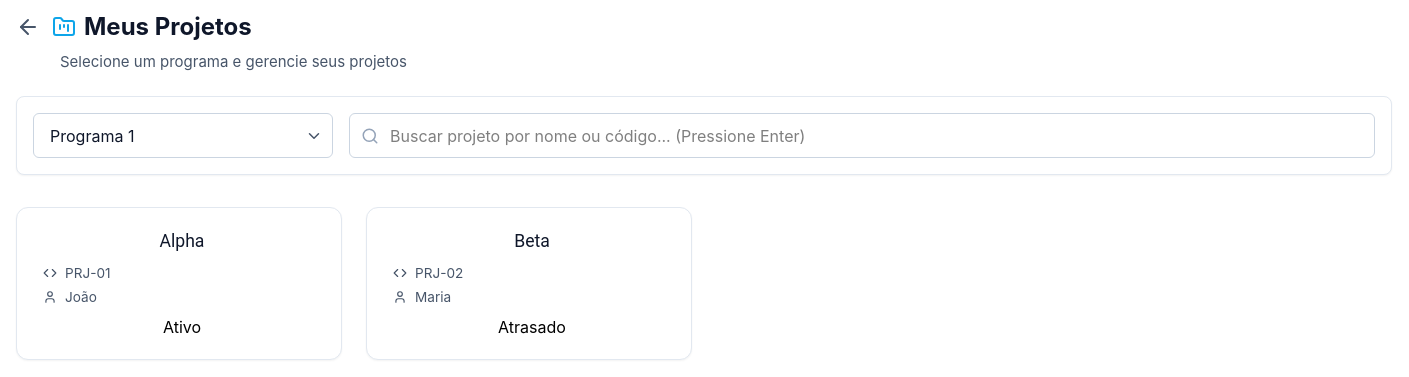
Test: ProjectListingScreen › deve filtrar os projetos pela barra de busca
Expected: the heading "Alpha" is shown, [160,231,204,251]
Note: digita "Alpha" na busca
Type "Alpha" into the field with placeholder "Buscar projeto por nome ou código... (Pressione Enter)".
click(862, 136); type("Alpha")  # box [349,113,1375,158]
Then press Enter
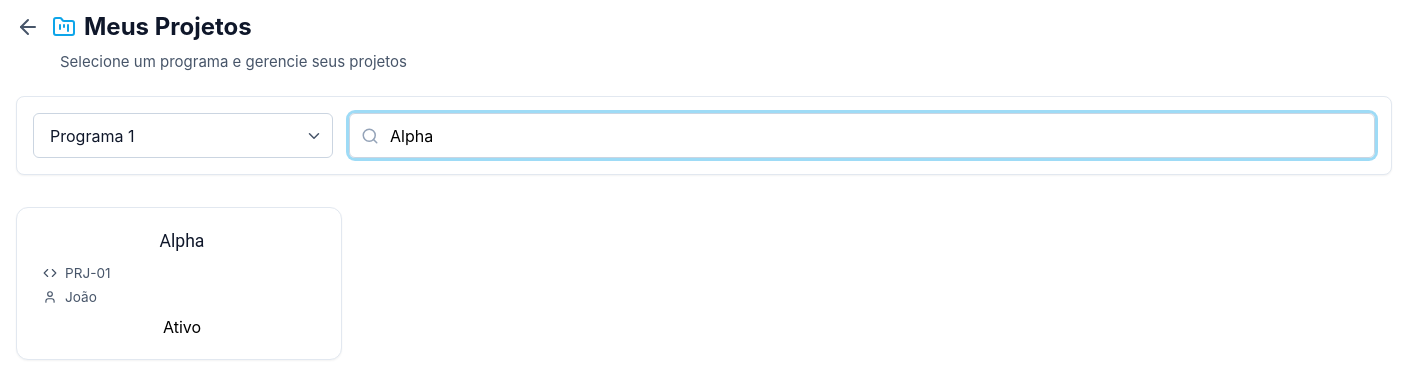
Expected: the heading "Alpha" is shown, [160,231,204,251]
Now the button "Beta" is gone
